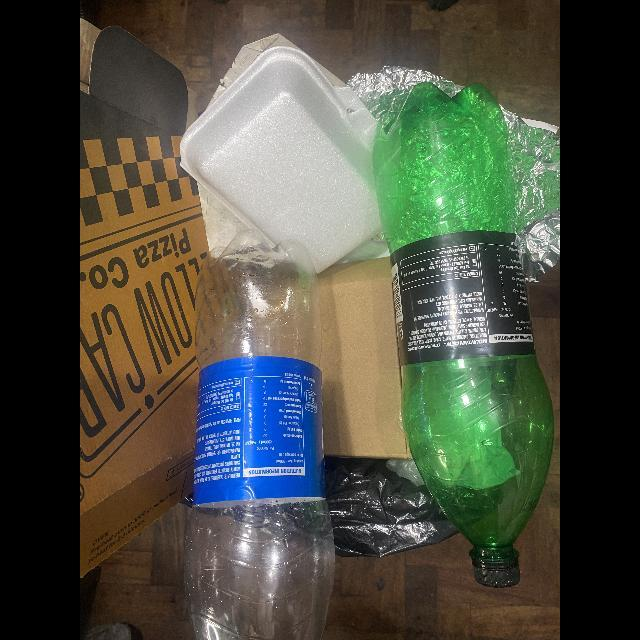paper: (80, 17, 210, 579)
plastic: (373, 83, 554, 589), (185, 230, 336, 640)
styrofoam: (179, 46, 382, 275)
